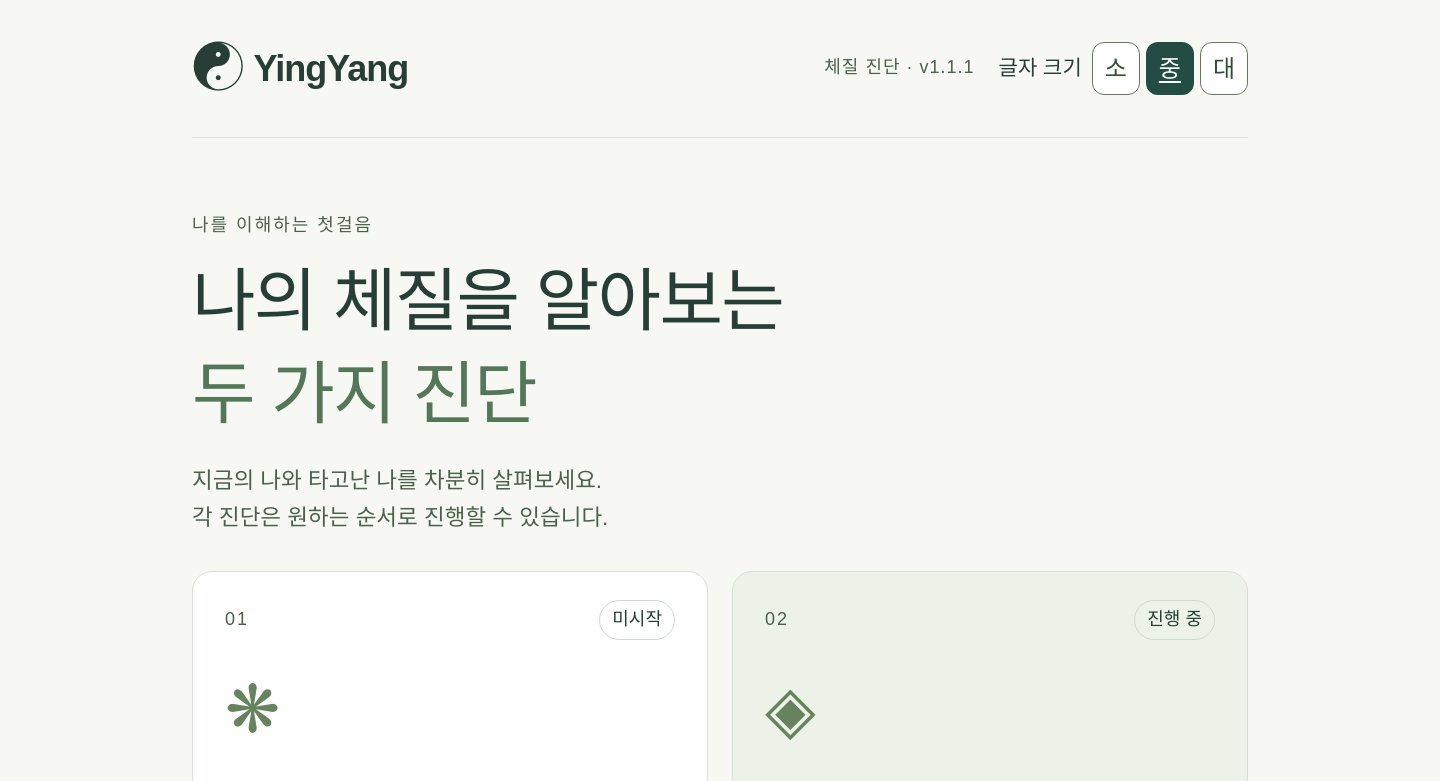
Test: 글자 설정 저장 실패도 현재 크기 적용 및 기존 응답 보존
The width and height of the screenshot is (1440, 781).
Click the button named "글자 크기 대" at (1224, 68), box [1200,42,1248,95]
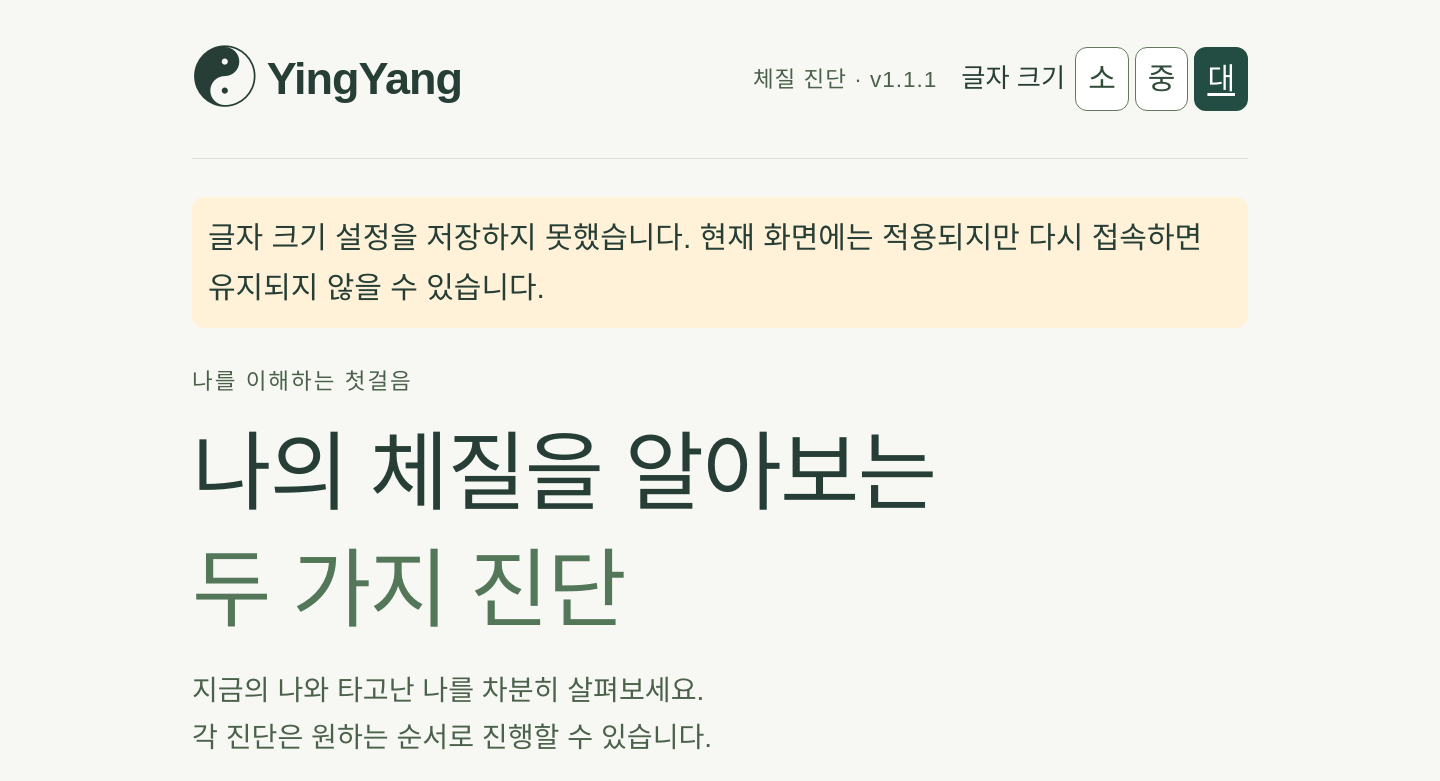
Now the message shows "글자 크기 설정", box [208,221,1202,304]
